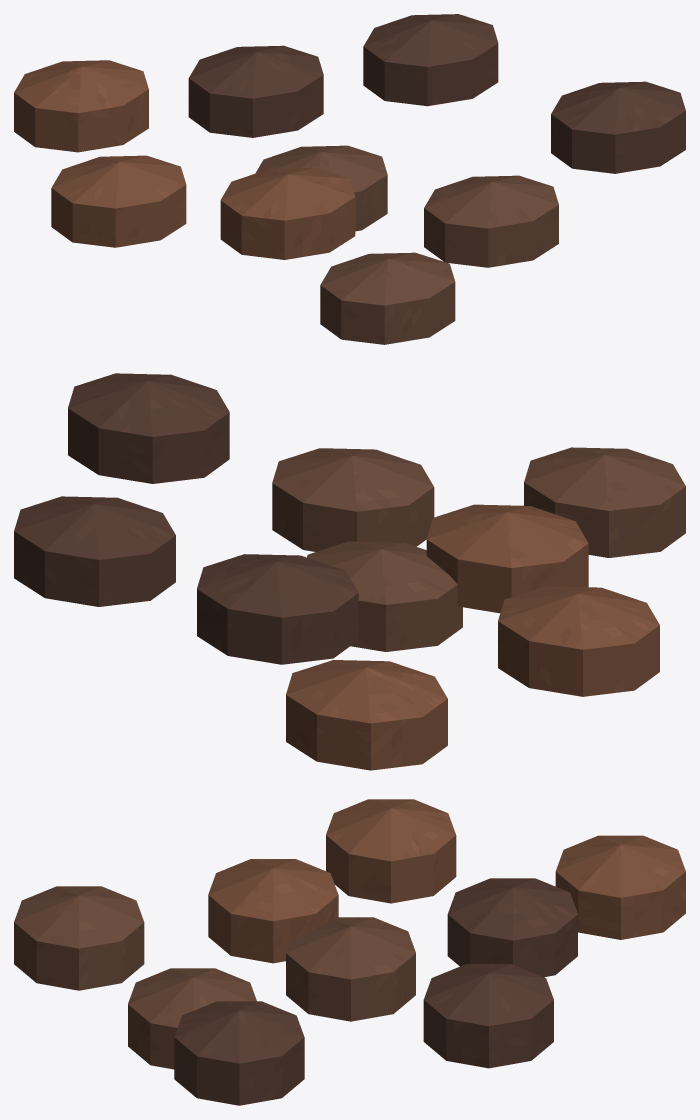
File: cow_candy.glb
3 views of the same model, one above another, from view 1: azimuth 30°, elevation 25°; view 2: azimuth 150°, elevation 25°; view 3: azimuth 270°, elevation 25° (orthographic). The views are drawn at different scales.
Parts seen in each view (by area): view 1: block_bite-sized sweet (×9); view 2: block_bite-sized sweet (×9); view 3: block_bite-sized sweet (×9).
Part boxes in pixels (left/top/right/bottom): block_bite-sized sweet (×9): left=14, top=14, right=685, bottom=344; block_bite-sized sweet (×9): left=14, top=373, right=685, bottom=770; block_bite-sized sweet (×9): left=14, top=799, right=685, bottom=1105.
Bounding box in the file's own units: 0.0593 × 0.0125 × 0.0587.
Materials: 1 (1 with a texture image).
